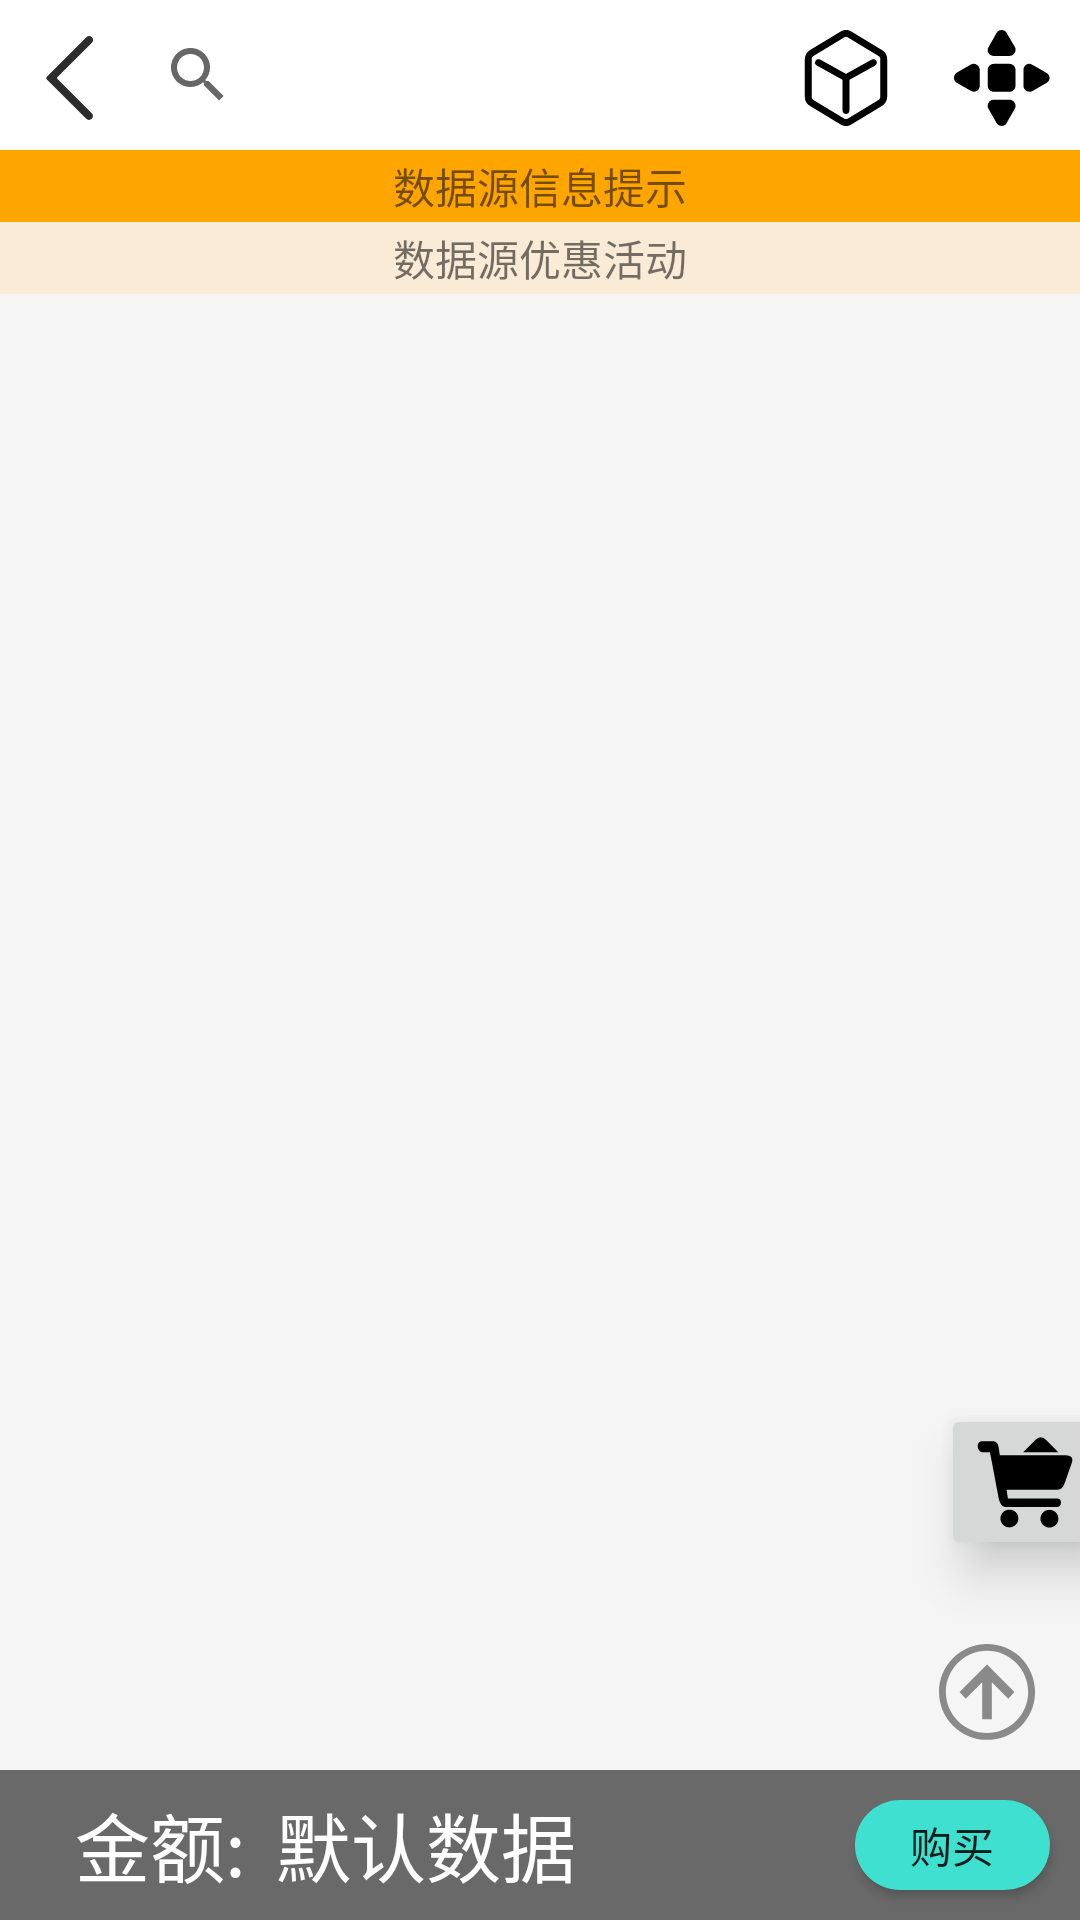

Where icons sit on this 1080*1920 app screen, as [x1=x1, y1=y1, x2=x2, y2=y2]:
return: [x1=46, y1=36, x2=93, y2=120]
top: [x1=939, y1=1644, x2=1035, y2=1740]
